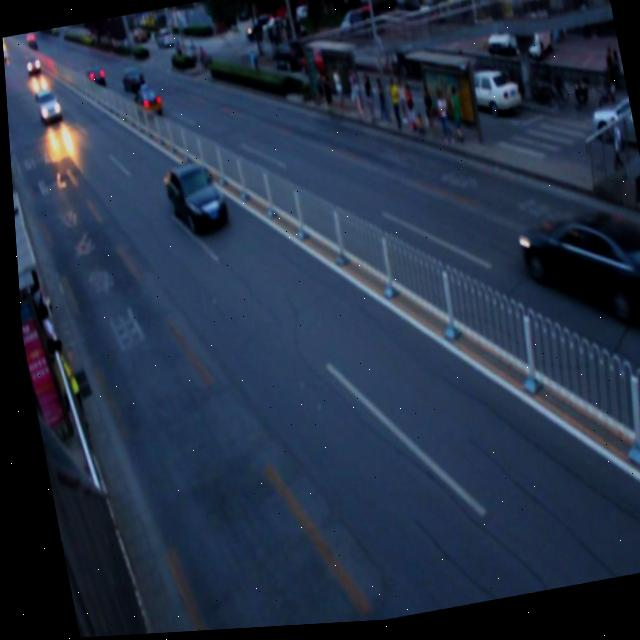car: (509, 198, 640, 350), (157, 158, 226, 240), (125, 83, 162, 123)
